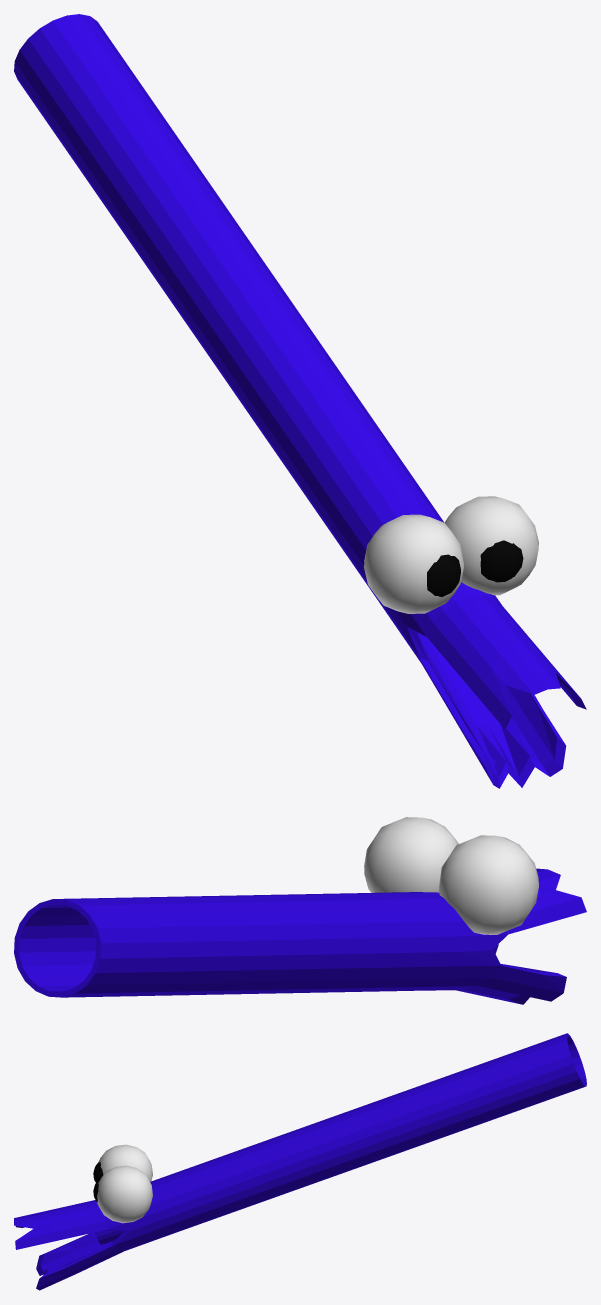
The model's file is Wire_Enemy.fbx.
3 renders of one model, top to bottom at view 1: azimuth 30°, elevation 25°; view 2: azimuth 150°, elevation 25°; view 3: azimuth 270°, elevation 25°, orthographic. The views are drawn at different scales.
Visible parts, largest first — view 1: Wire, Eye_R, Eye_L, EyeBall_L, EyeBall_R; view 2: Wire, Eye_R, Eye_L; view 3: Wire, Eye_L, Eye_R.
Part boxes in pixels (x1=…): Wire: x1=14, y1=14, x2=586, y2=788; Eye_R: x1=364, y1=514, x2=463, y2=613; Eye_L: x1=444, y1=496, x2=538, y2=595; EyeBall_L: x1=480, y1=540, x2=523, y2=582; EyeBall_R: x1=427, y1=554, x2=460, y2=596; Wire: x1=14, y1=868, x2=586, y2=1004; Eye_R: x1=439, y1=835, x2=538, y2=934; Eye_L: x1=364, y1=817, x2=458, y2=892; Wire: x1=14, y1=1033, x2=586, y2=1290; Eye_L: x1=97, y1=1165, x2=152, y2=1223; Eye_R: x1=98, y1=1144, x2=152, y2=1181.
Bounding box in the file's own units: 1.64 × 4.27 × 8.81.
